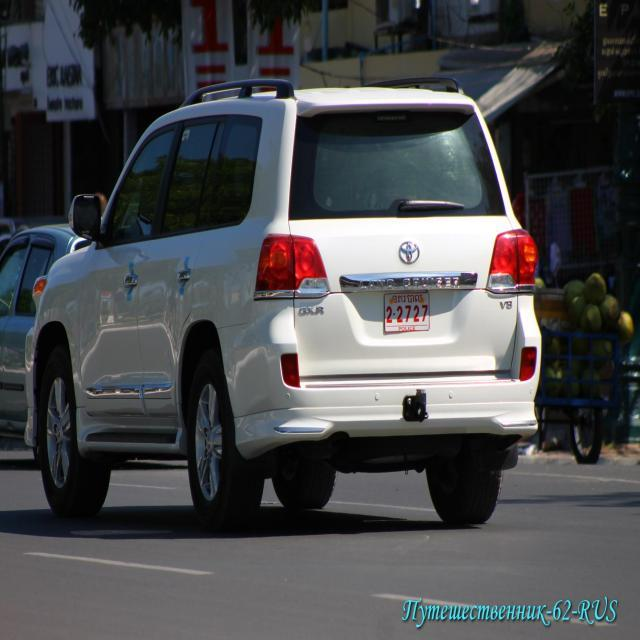Police: (392, 293, 423, 304)
